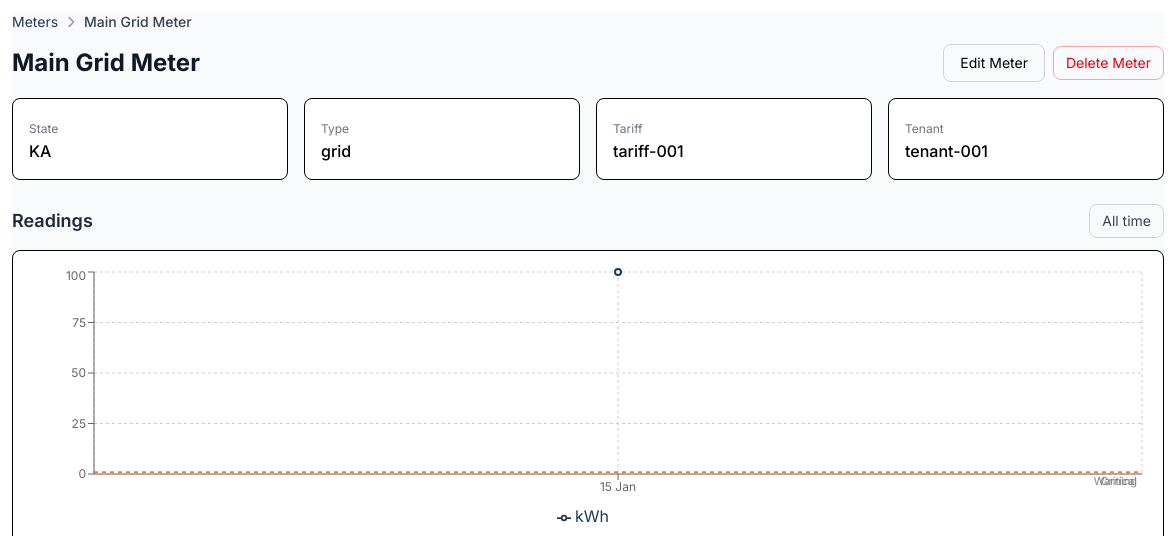
Test: MeterDetail page › shows edit form when Edit Meter button is clicked
The width and height of the screenshot is (1176, 536).
Expected: the heading "Main Grid Meter" is shown, [12, 47, 200, 79]
Click the button "Edit Meter". click: [994, 63]
box: [943, 44, 1045, 82]
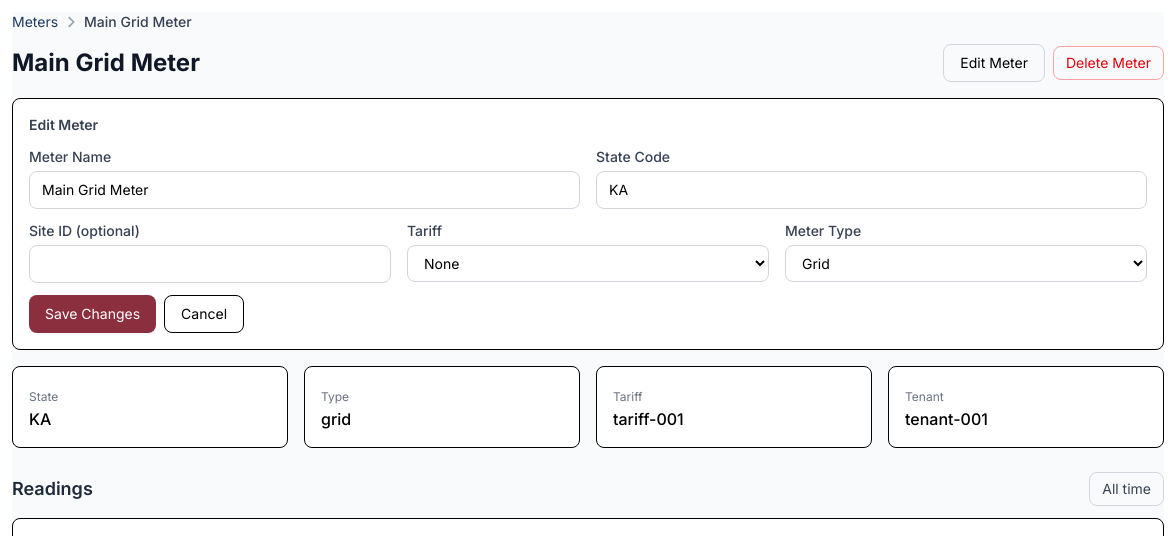
Result: the button "Save Changes" is shown at [29, 295, 156, 333]
